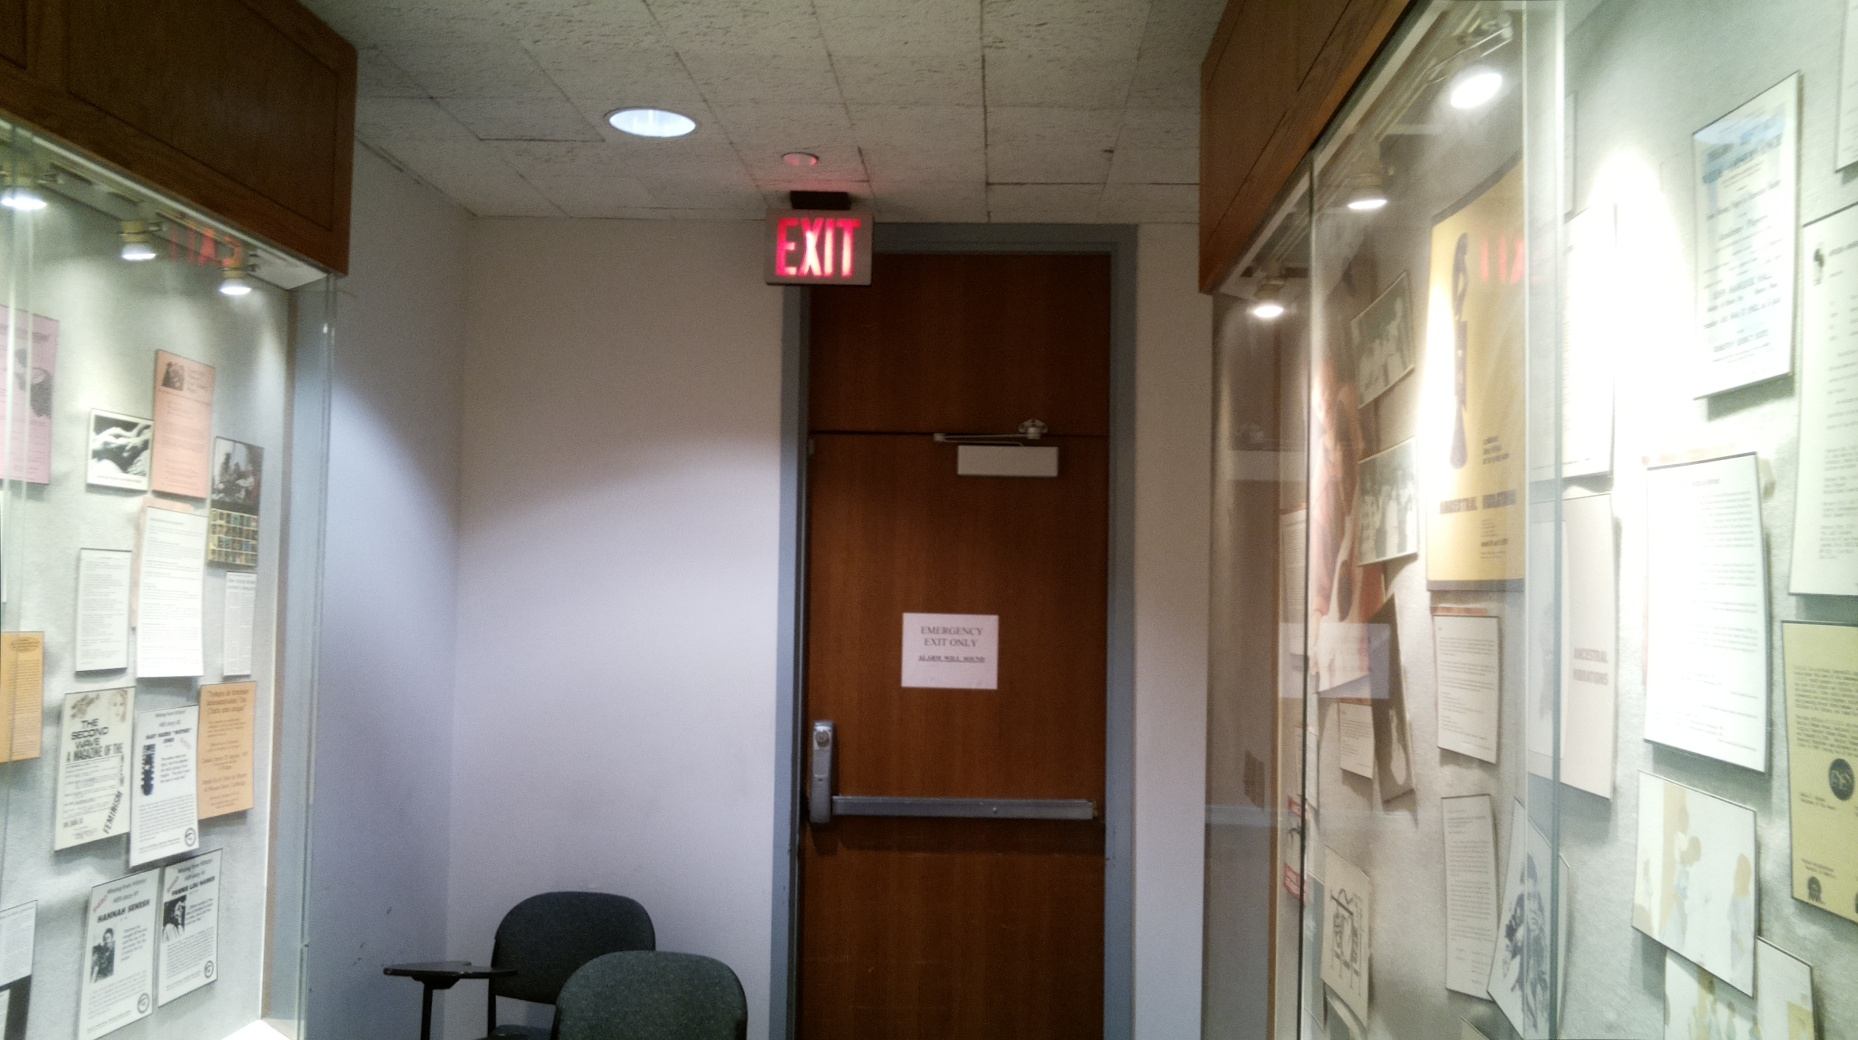exit sign: (757, 202, 884, 293)
